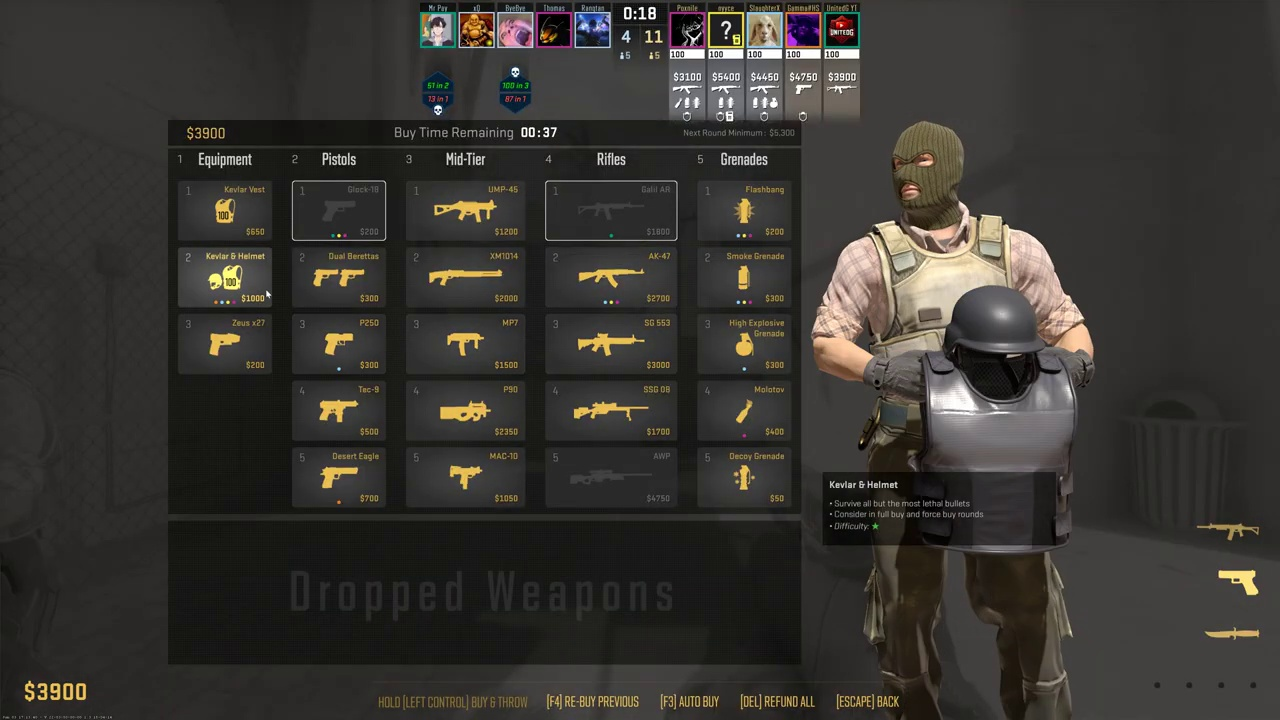Terrorist: (851, 125, 1078, 720)
